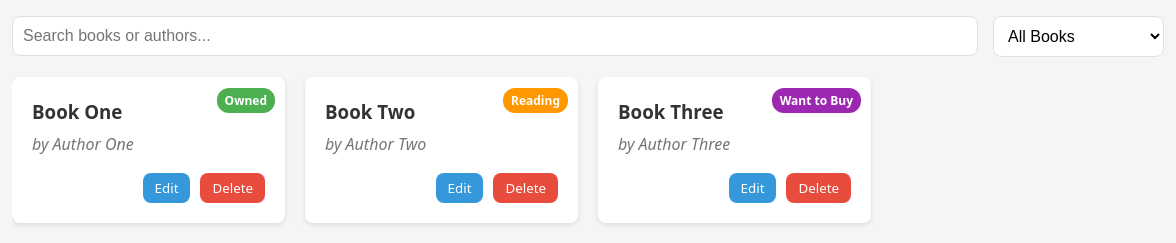
Test case: BookList Component › filters books based on status
The width and height of the screenshot is (1176, 243).
Select "Currently Reading" in the dropdown "All Books": (1078, 36) [993,16,1164,57]
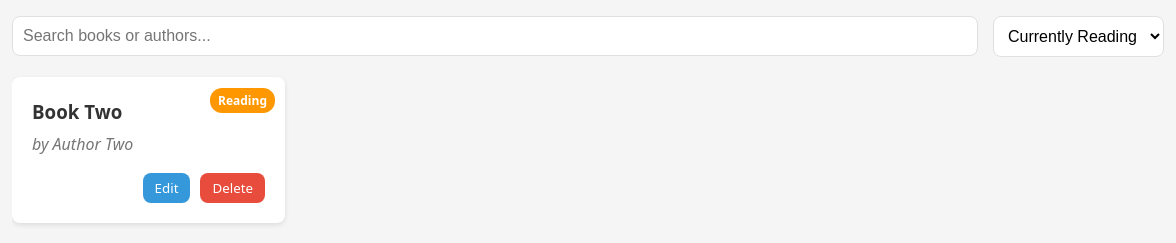
expect the heading "Book Two" is shown: met, box [32,99,122,124]
expect the heading "Book One" is gone: met
